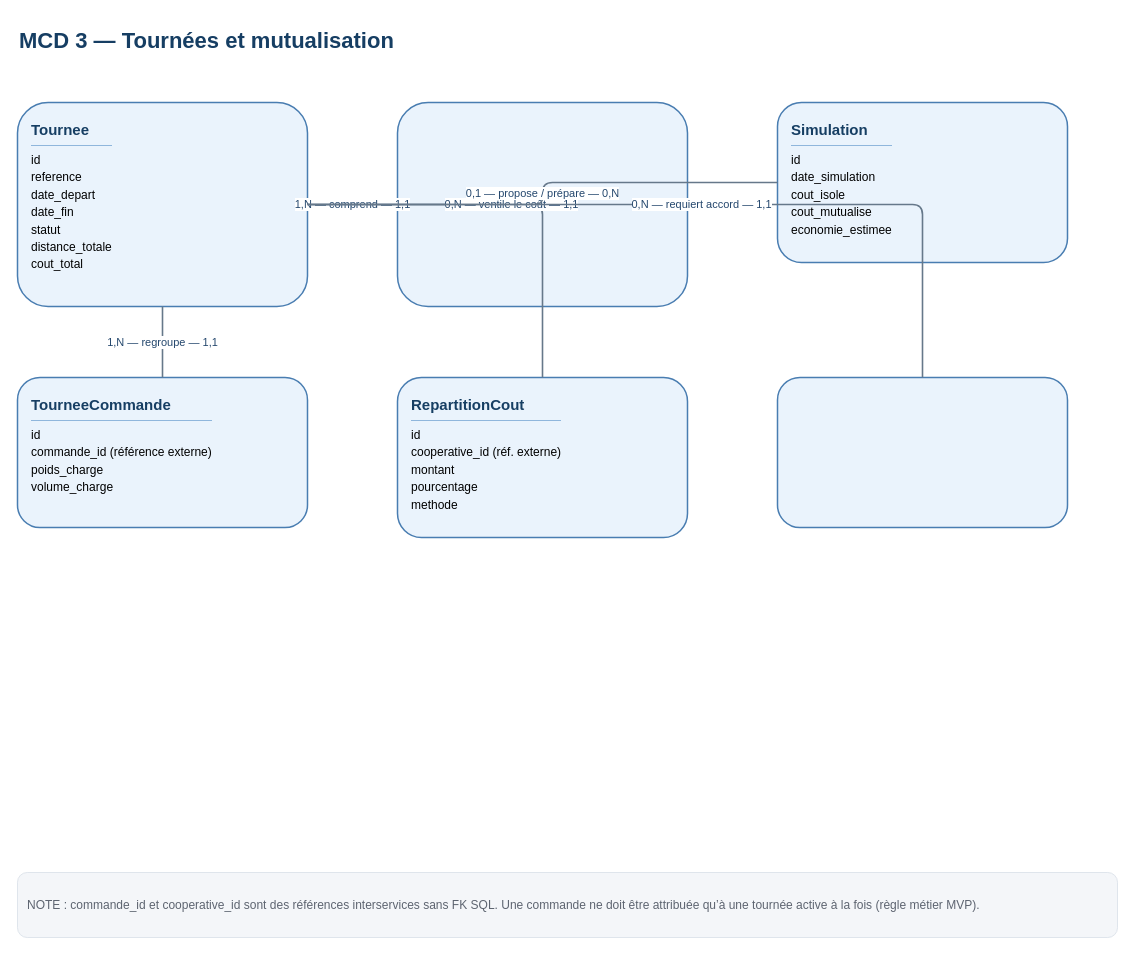
The diagram is 1145 pixels wide and 955 high, and some of its shapes have lost their labels. Each missing label, with the centre of its shape:
"Arret id ordre type latitude longitude heure_prevue heure_reelle" belongs at pixel 542 204.
"ValidationMutualisation id cooperative_id (réf. externe) statut date_validation" belongs at pixel 922 452.
